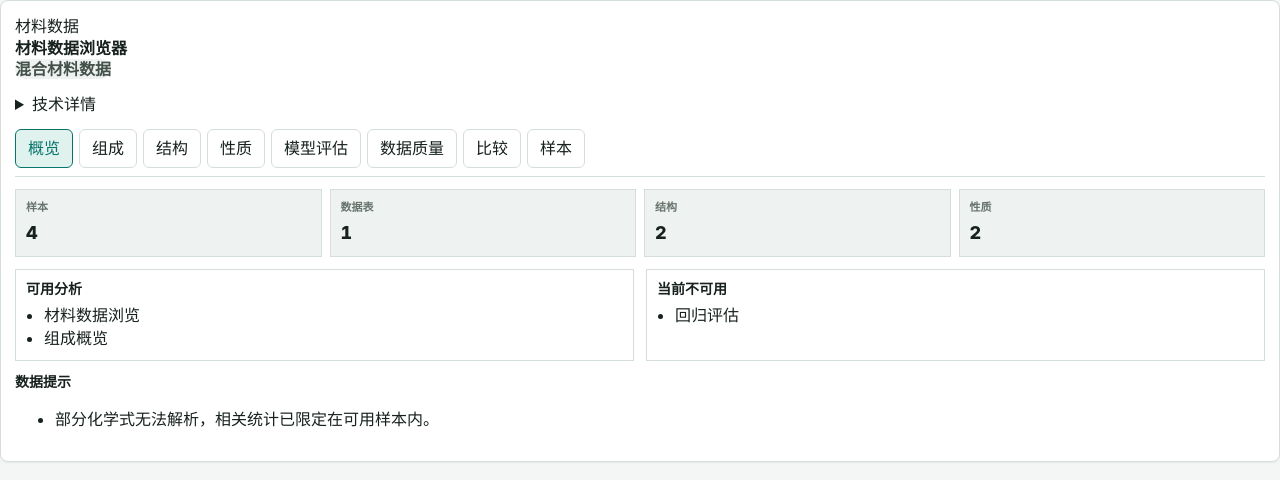
Test: DatasetMaterialsExplorerPanel › shows explicit comparison provenance
Click the tab "比较" at (492, 148), box [463,129,521,168]
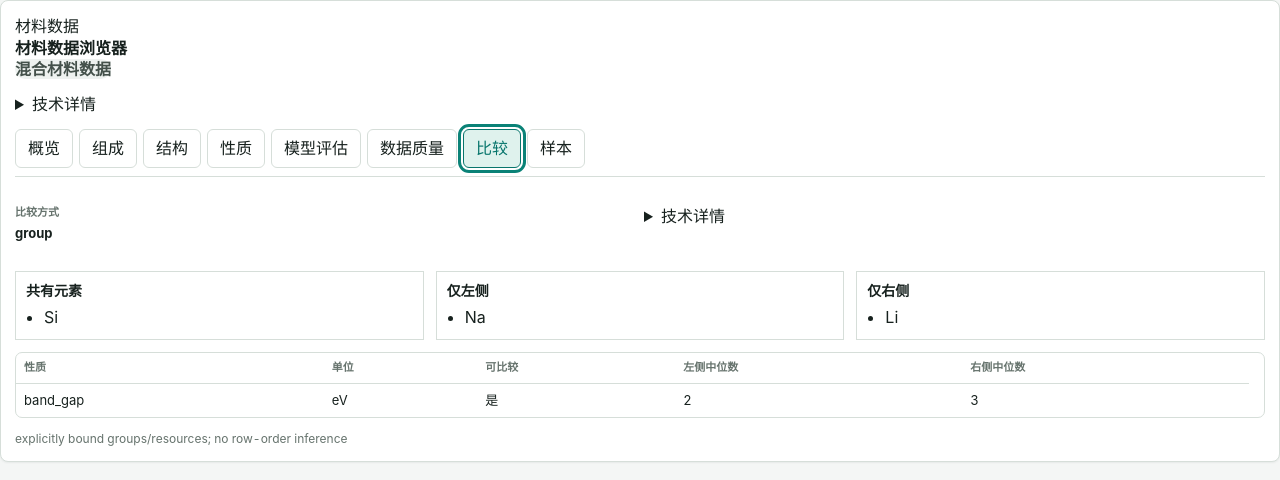
Expected: the element with test id "dataset-explorer-comparison" shows "no row-order inference", [15,431,348,446]
Expected: the element with test id "dataset-explorer-comparison" shows "左侧中位数", [683,360,738,374]
